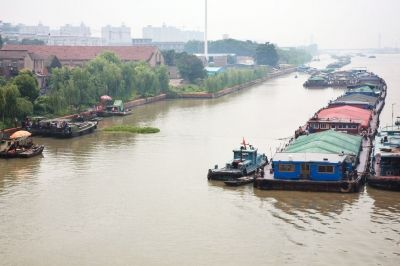boat: (249, 130, 372, 190), (300, 105, 380, 137), (205, 139, 270, 178), (32, 114, 100, 139), (327, 92, 390, 110)
